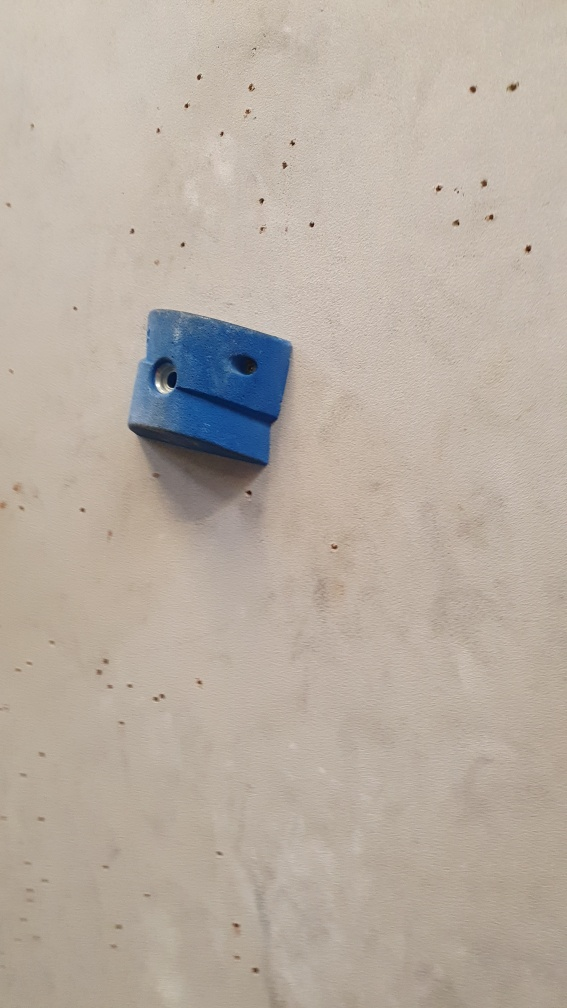Pinch: (124, 301, 295, 474)
